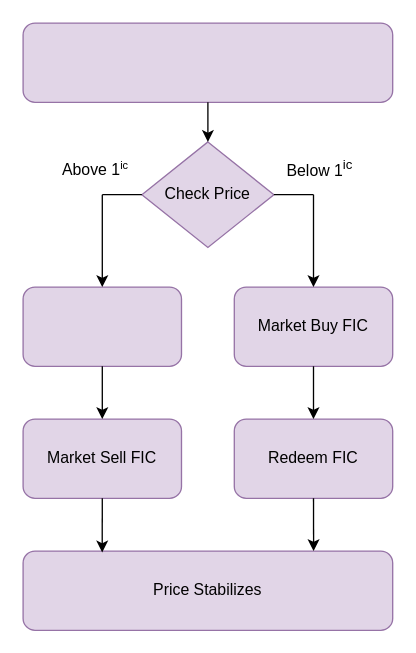
Image size: 416x653. Some labels were removed from this diagram. Here are the shapes that lost their labels. From the top down, the box of each, then its label:
(22, 22, 393, 102): Fractional Index Coin (FIC) Price
(22, 286, 182, 366): Mint FIC
